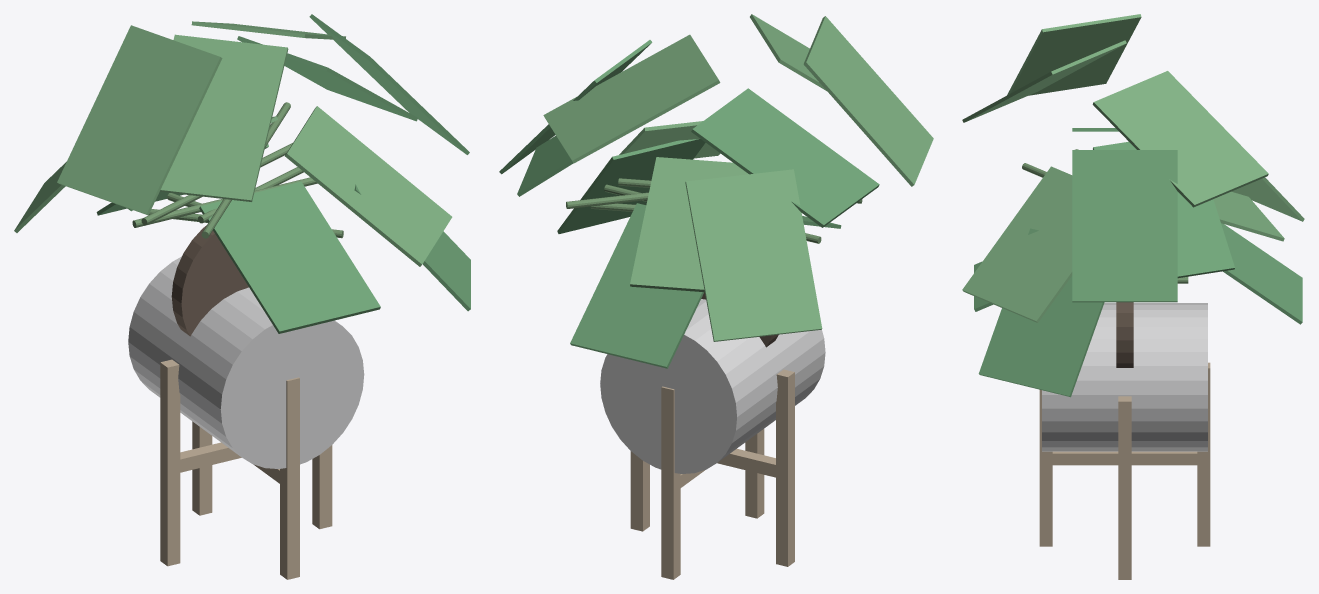
File: potted_plant.glb
The picture shows the model from 3 angles, left to right: view 1: azimuth 30°, elevation 25°; view 2: azimuth 150°, elevation 25°; view 3: azimuth 270°, elevation 25°; orthographic projection. The views are drawn at different scales.
Visible parts, largest first — view 1: geometry_6, geometry_31, geometry_9, geometry_23, geometry_11, geometry_7, geometry_0, geometry_3, geometry_13, geometry_29, geometry_25, geometry_2 (+6 smaller); view 2: geometry_6, geometry_19, geometry_21, geometry_15, geometry_17, geometry_31, geometry_27, geometry_25, geometry_0, geometry_1, geometry_23, geometry_29 (+6 smaller); view 3: geometry_6, geometry_13, geometry_15, geometry_11, geometry_25, geometry_31, geometry_29, geometry_17, geometry_2, geometry_5, geometry_27, geometry_1 (+4 smaller).
Boxes of the visible parts, x1,y1,x2,y2 form: geometry_6: (128, 256, 364, 468); geometry_31: (57, 25, 222, 215); geometry_9: (199, 181, 380, 333); geometry_23: (160, 34, 288, 201); geometry_11: (285, 106, 452, 266); geometry_7: (171, 225, 248, 336); geometry_0: (160, 359, 180, 566); geometry_3: (280, 377, 299, 579); geometry_13: (309, 14, 469, 154); geometry_29: (237, 36, 417, 121); geometry_25: (354, 184, 470, 311); geometry_2: (312, 445, 332, 529); geometry_6: (600, 299, 825, 473); geometry_19: (685, 169, 822, 341); geometry_21: (691, 88, 879, 227); geometry_15: (543, 34, 720, 163); geometry_17: (570, 203, 703, 368); geometry_31: (803, 16, 933, 186); geometry_27: (630, 157, 748, 292); geometry_25: (557, 139, 705, 233); geometry_0: (776, 369, 794, 566); geometry_1: (661, 386, 680, 579); geometry_23: (750, 14, 826, 90); geometry_29: (517, 136, 573, 196); geometry_6: (1042, 303, 1207, 451); geometry_13: (1072, 150, 1177, 302); geometry_15: (1092, 71, 1268, 207); geometry_11: (962, 166, 1072, 322); geometry_25: (978, 228, 1104, 397); geometry_31: (1007, 14, 1141, 95); geometry_29: (1093, 141, 1234, 278); geometry_17: (1221, 223, 1302, 324); geometry_2: (1118, 396, 1131, 579); geometry_5: (1042, 451, 1200, 465); geometry_27: (1213, 191, 1284, 241); geometry_1: (1197, 362, 1210, 546).
Size of the model in its own units: 0.9355 by 1.22 by 0.783.
